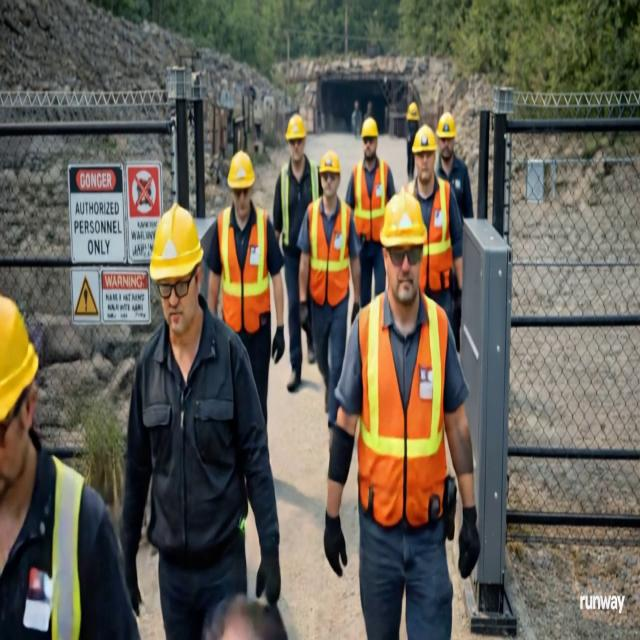Vest: (358, 294, 447, 527), (218, 208, 270, 333), (51, 457, 83, 639), (308, 199, 350, 306), (420, 177, 453, 291), (353, 160, 387, 241), (281, 163, 289, 246)
Worker: (324, 193, 479, 639), (121, 205, 280, 639), (0, 296, 139, 639), (206, 152, 284, 423), (298, 151, 360, 422), (273, 114, 321, 391), (405, 125, 462, 326), (345, 118, 394, 307)
helmet: (0, 296, 38, 421), (150, 204, 203, 280), (380, 190, 426, 247), (228, 151, 254, 189), (412, 125, 436, 153), (286, 114, 306, 140), (437, 112, 455, 138), (361, 117, 378, 138)
